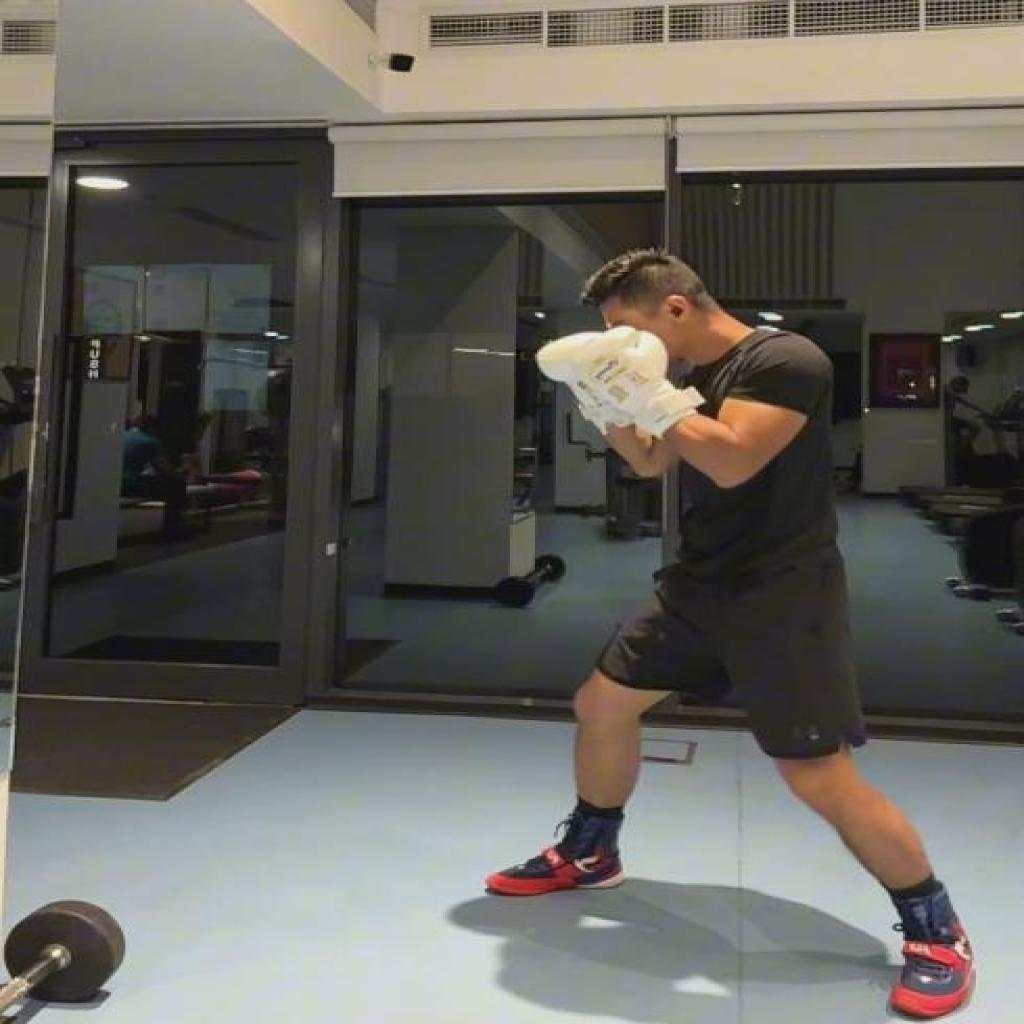no punch: (489, 243, 984, 1024)
